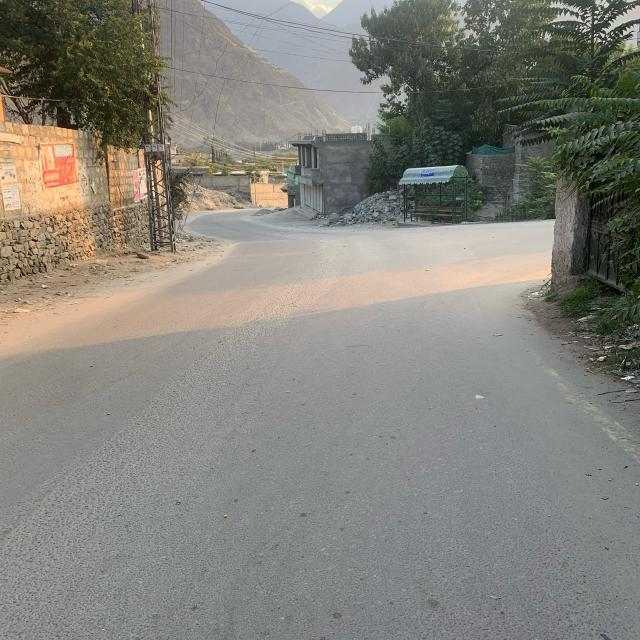Right-Turn: (318, 218, 545, 385)
straight: (203, 211, 280, 353)
